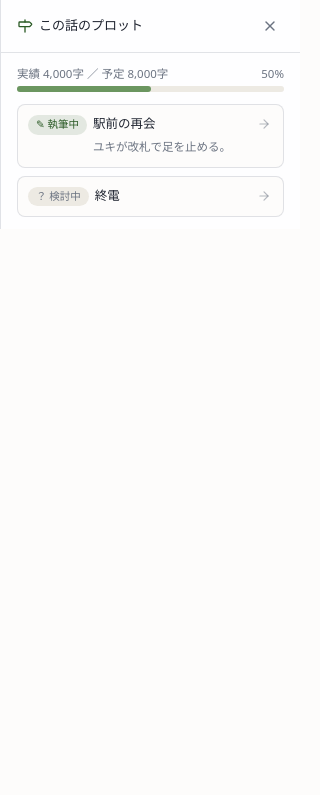
Test case: PlotPeek（この話のプロット） › テンプレートのガイド文は要約を書いたあとも残る
This screenshot has width=320, height=795.
What coordinates should you click on to do the following:
click the button with aria-label "「駅前の再会」の詳細"
I would click on:
 (171, 136)
Its box is x1=93 y1=115 x2=249 y2=157.
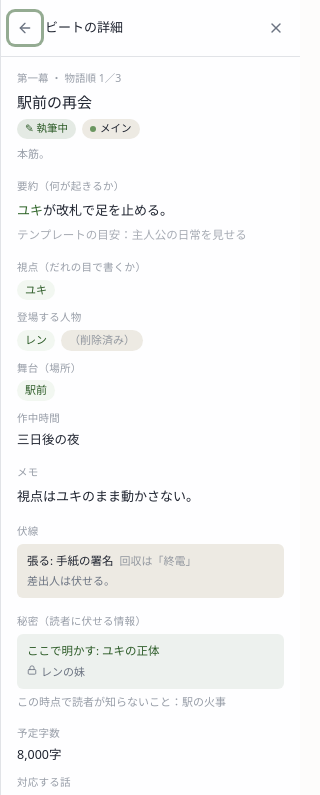
expect the text "テンプレートの目安：主人公の日常を見せる" is shown: met, box x1=17 y1=226 x2=284 y2=244
